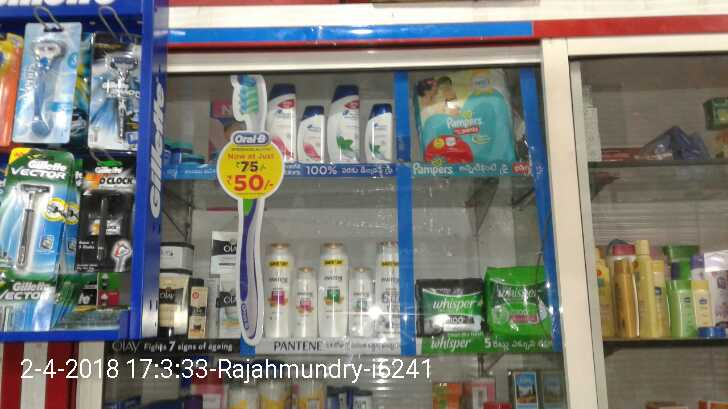vicks: (164, 141, 173, 164), (180, 156, 200, 164), (173, 142, 180, 164)
